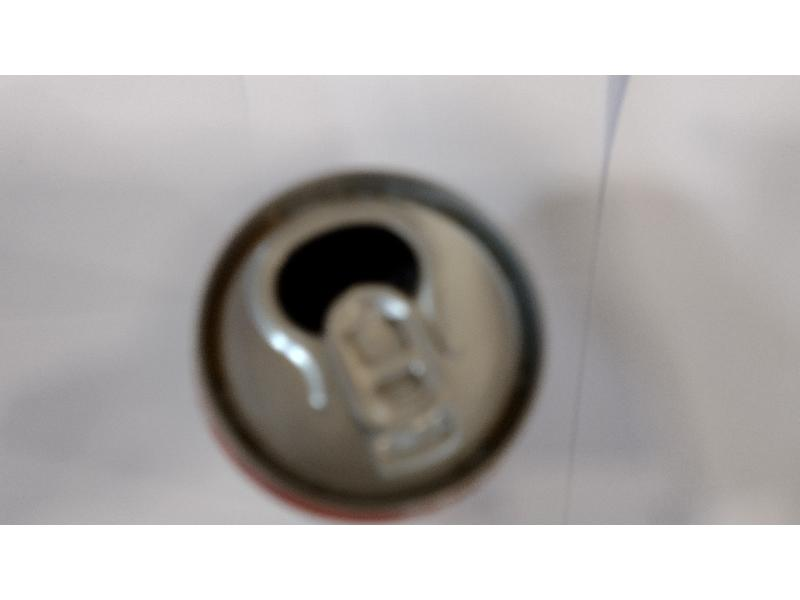can: (171, 158, 566, 526)
